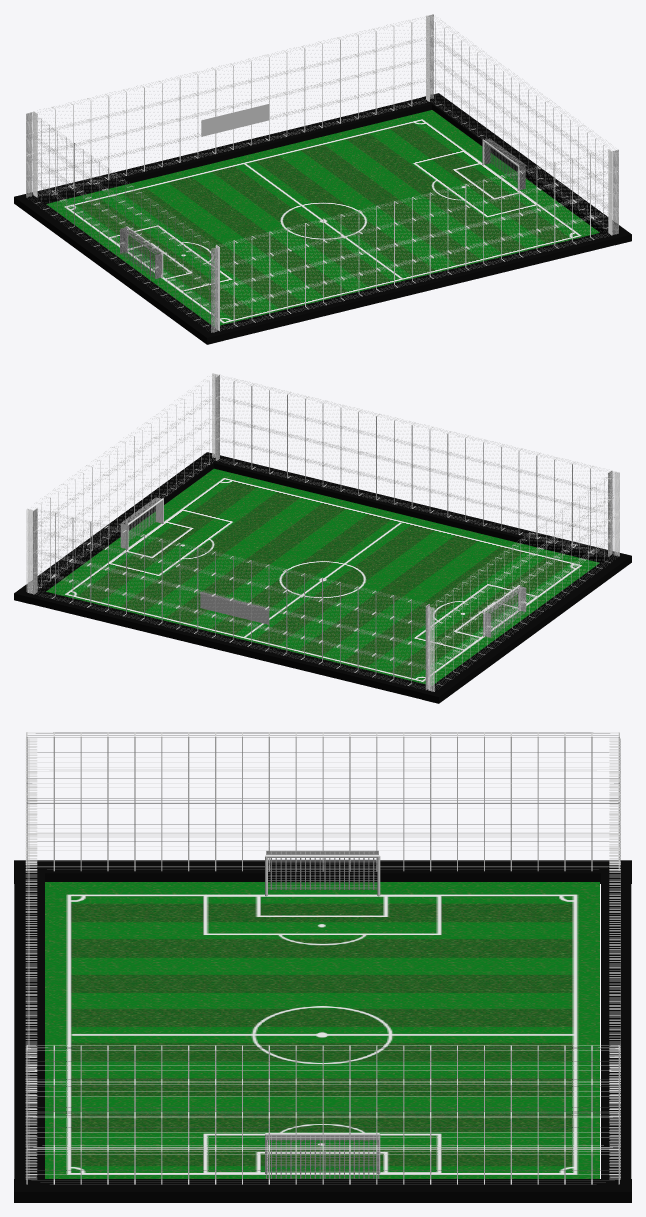
File: Saha.fbx
3 renders of one model, top to bottom at view 1: azimuth 30°, elevation 25°; view 2: azimuth 150°, elevation 25°; view 3: azimuth 270°, elevation 25°, orthographic. The views are drawn at different scales.
Parts seen in each view (by area): view 1: Plane, Cube, Cube.001, Cube.003, Cube.002, Cube.004, Cube.012, Cube.013, Cube.005, Cube.011, Cube.019, Cube.010 (+12 smaller); view 2: Plane, Cube.001, Cube, Cube.003, Cube.002, Cube.005, Cube.013, Cube.012, Cube.004, Cube.011, Cube.010, Cube.018 (+12 smaller); view 3: Plane, Cube.002, Cube.003, Cube, Cube.001, Cube.016, Cube.006, Cube.017, Cube.009, Cube.008, Cube.007, Cube.014 (+11 smaller).
Boxes of the visible parts, x1,y1,x2,y2 form: Plane: [46, 110, 599, 325]; Cube: [220, 231, 615, 340]; Cube.001: [32, 97, 431, 203]; Cube.003: [14, 193, 223, 344]; Cube.002: [422, 93, 631, 245]; Cube.004: [215, 212, 612, 331]; Cube.012: [215, 170, 612, 289]; Cube.013: [33, 36, 429, 155]; Cube.005: [33, 78, 429, 197]; Cube.011: [215, 191, 612, 309]; Cube.019: [215, 149, 612, 268]; Cube.010: [33, 58, 429, 176]; Plane: [46, 468, 599, 685]; Cube.001: [30, 590, 425, 699]; Cube: [214, 456, 614, 562]; Cube.003: [422, 552, 631, 703]; Cube.002: [14, 452, 223, 604]; Cube.005: [33, 571, 428, 690]; Cube.013: [33, 529, 428, 648]; Cube.012: [215, 395, 612, 514]; Cube.004: [215, 437, 612, 556]; Cube.011: [215, 416, 612, 535]; Cube.010: [33, 550, 428, 669]; Cube.018: [33, 508, 429, 627]; Plane: [45, 882, 599, 1178]; Cube.002: [14, 1179, 631, 1202]; Cube.003: [14, 860, 631, 883]; Cube: [14, 873, 44, 1179]; Cube.001: [601, 873, 631, 1179]; Cube.016: [26, 732, 619, 771]; Cube.006: [26, 1145, 619, 1184]; Cube.017: [26, 1045, 619, 1084]; Cube.009: [26, 1112, 619, 1151]; Cube.008: [26, 798, 619, 837]; Cube.007: [26, 832, 619, 871]; Cube.014: [26, 1079, 619, 1118].
Bounding box in the file's own units: 201 × 41.03 × 158.
